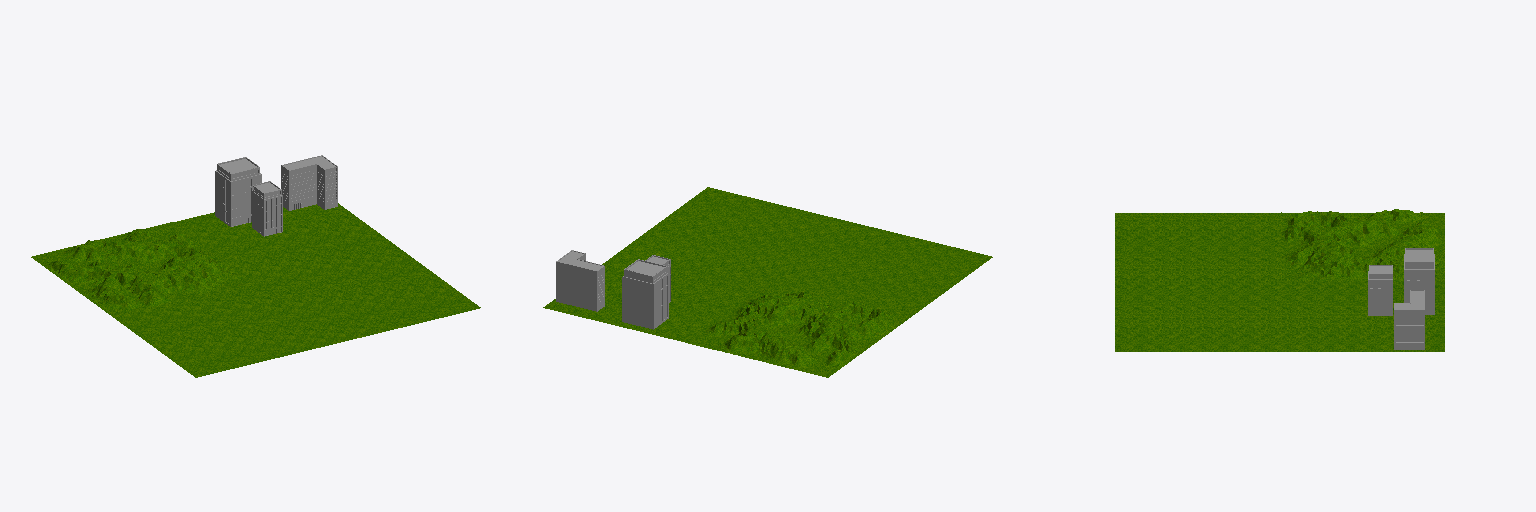
3 renders of one model, left to right at view 1: azimuth 30°, elevation 25°; view 2: azimuth 150°, elevation 25°; view 3: azimuth 270°, elevation 25°, orthographic.
Parts seen in each view (by area): view 1: Plane001, WS_free_terrain_001, Building10, Building11, Building11.001; view 2: Plane001, WS_free_terrain_001, Building11, Building10; view 3: Plane001, WS_free_terrain_001, Building10, Building11, Building11.001.
Boxes of the visible parts, x1,y1,x2,y2 form: Plane001: [31, 203, 480, 377]; WS_free_terrain_001: [32, 222, 252, 315]; Building10: [281, 155, 337, 210]; Building11: [215, 157, 261, 226]; Building11.001: [252, 181, 282, 236]; Plane001: [543, 187, 992, 377]; WS_free_terrain_001: [686, 284, 909, 377]; Building11: [622, 259, 668, 329]; Building10: [556, 250, 604, 311]; Plane001: [1115, 213, 1444, 351]; WS_free_terrain_001: [1281, 209, 1444, 281]; Building10: [1394, 290, 1424, 349]; Building11: [1404, 248, 1434, 314]; Building11.001: [1368, 265, 1392, 315].
Bounding box in the file's own units: 15.95 × 2.83 × 15.99.
Materials: 4 (1 with a texture image).